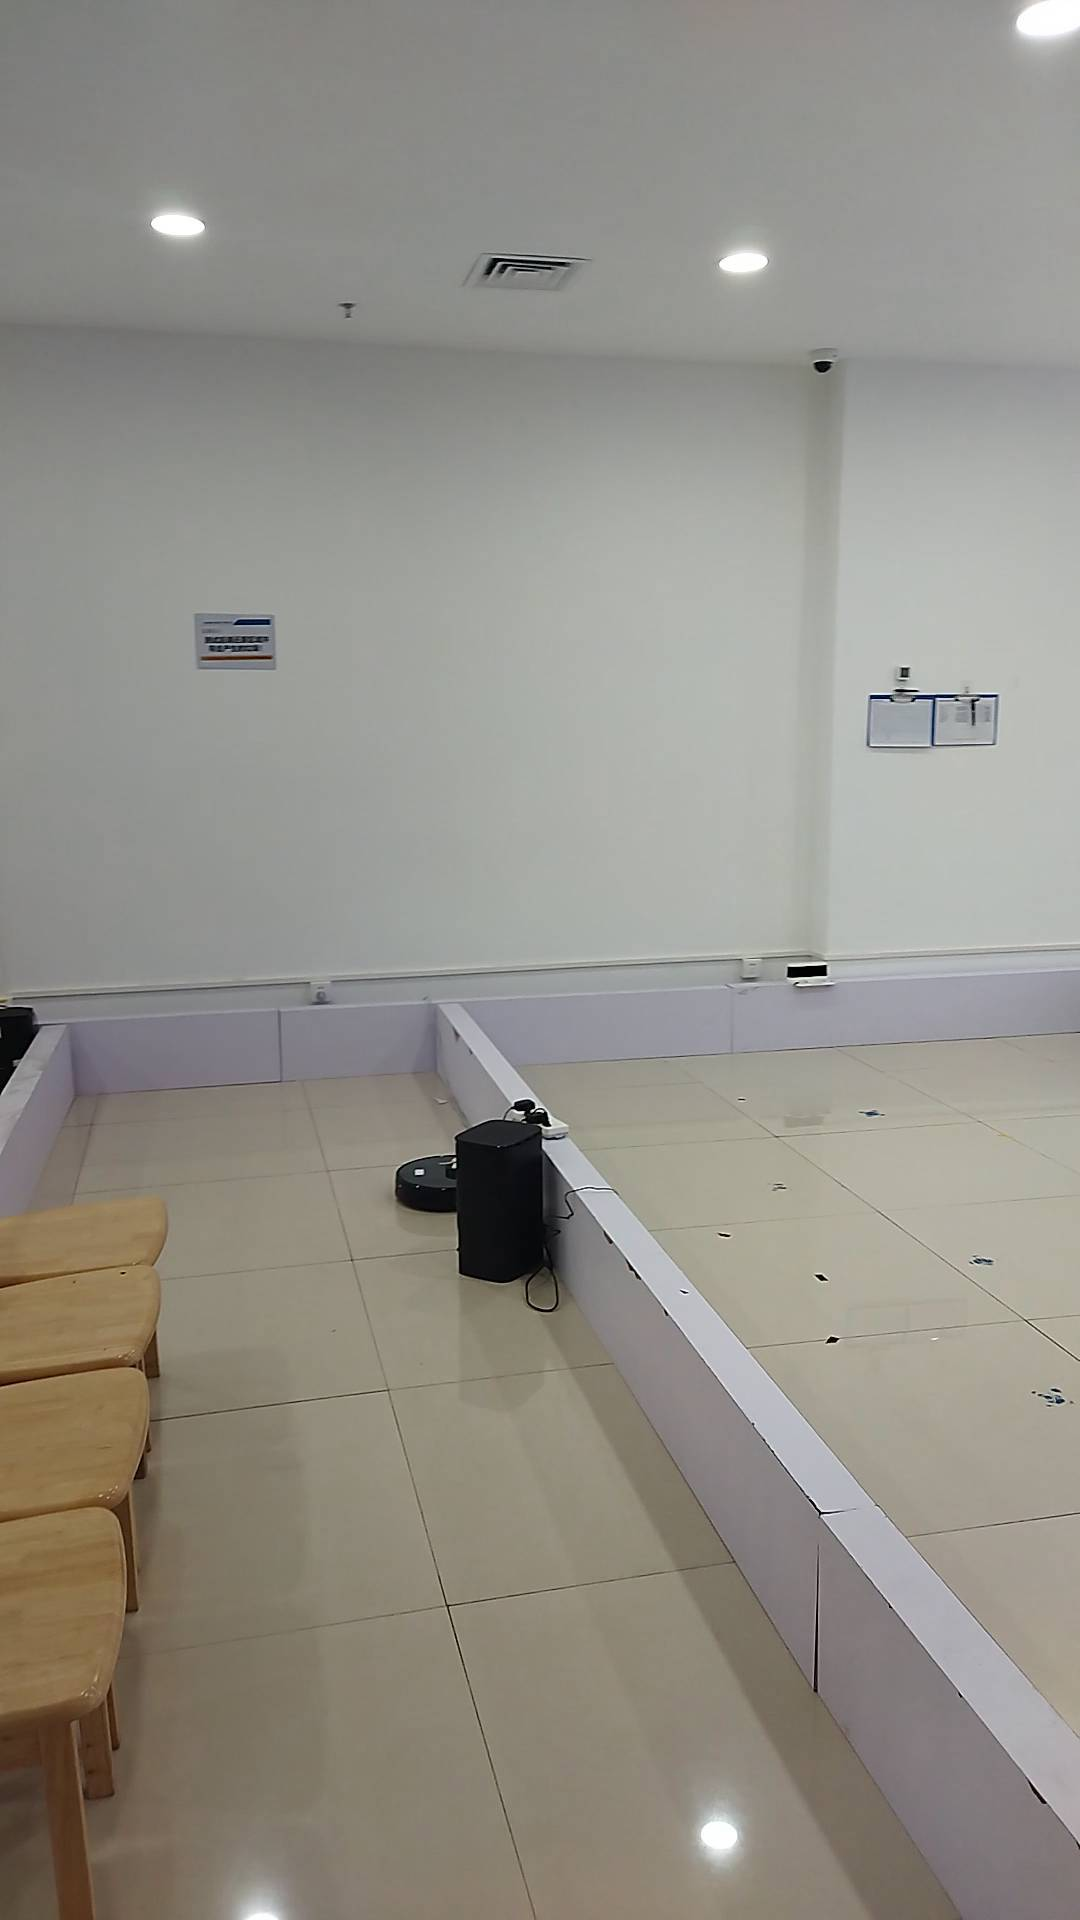dust collecting barrel: (462, 1118, 553, 1279)
